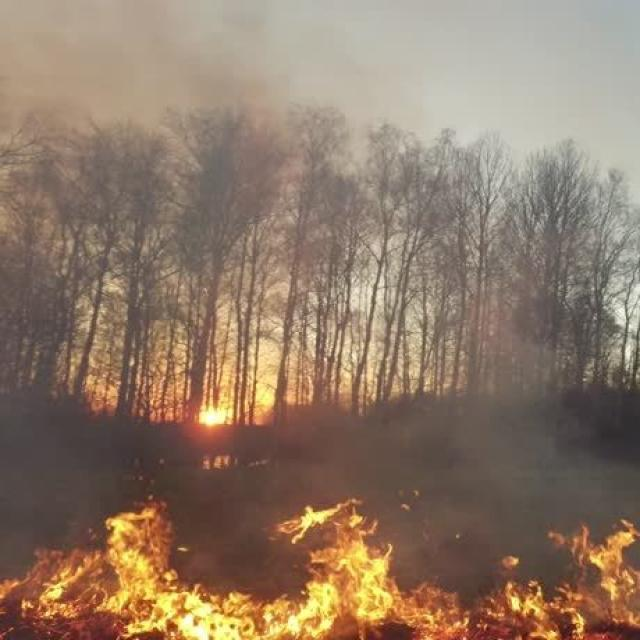Fire: (0, 500, 640, 640)
Smoke: (0, 0, 312, 143)
